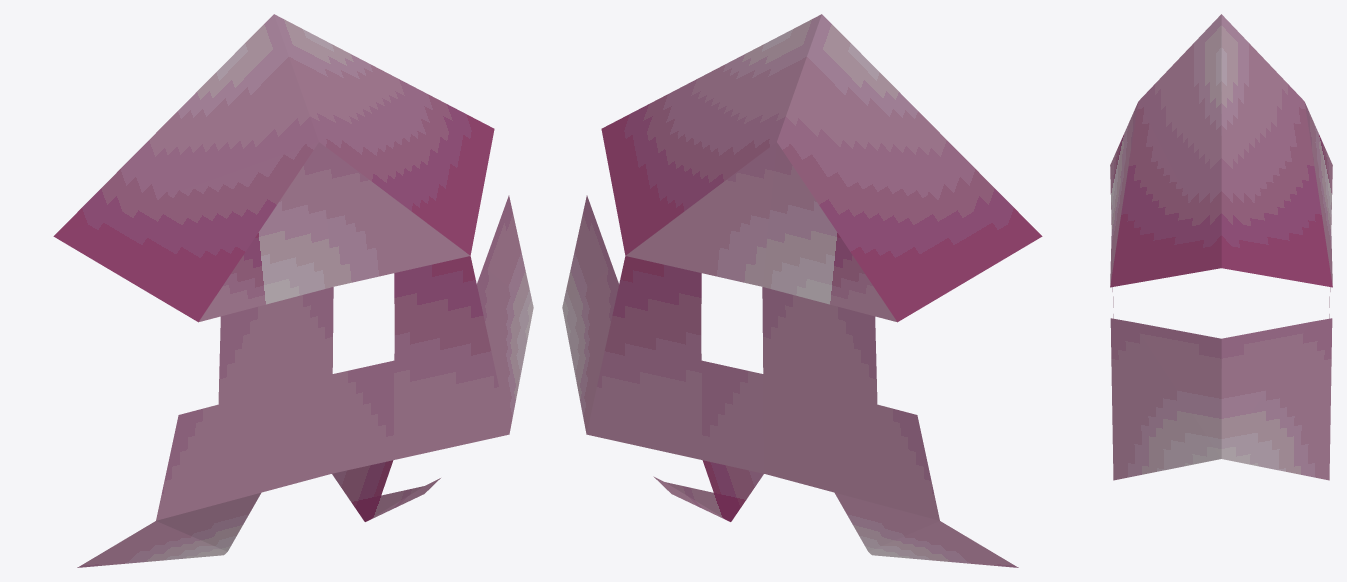
File: 60_efe.gltf
The picture shows the model from 3 angles, left to right: view 1: azimuth 30°, elevation 25°; view 2: azimuth 150°, elevation 25°; view 3: azimuth 270°, elevation 25°; orthographic projection. The views are drawn at different scales.
Size of the model in its own units: 332 by 309 by 134.
1 material, 1 textured.
